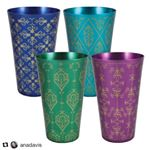cups: (31, 49, 91, 145), (5, 4, 63, 99), (90, 50, 147, 145)
